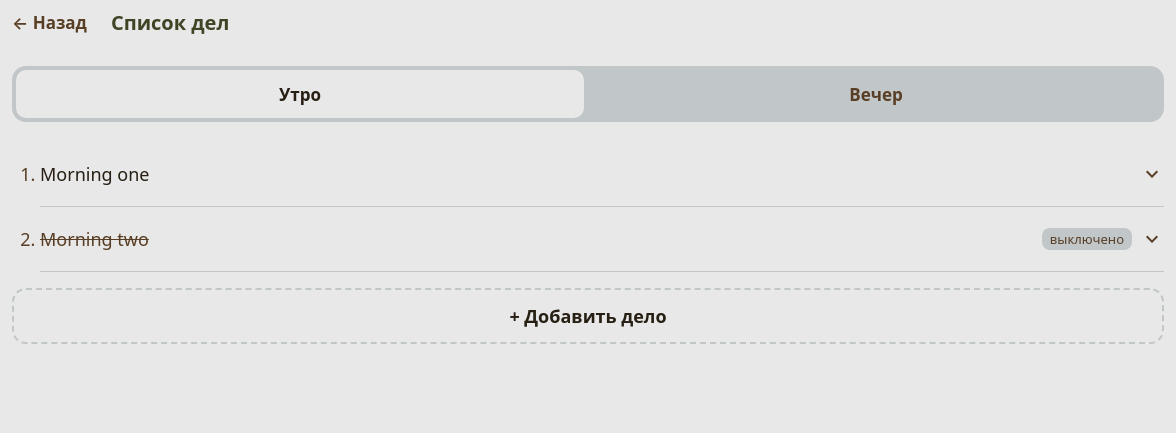
Test: Editor: renaming › cancels with the button and with Escape
The image size is (1176, 433).
Click the button "Morning one" at point(95, 174), box [40,150,1164,198]
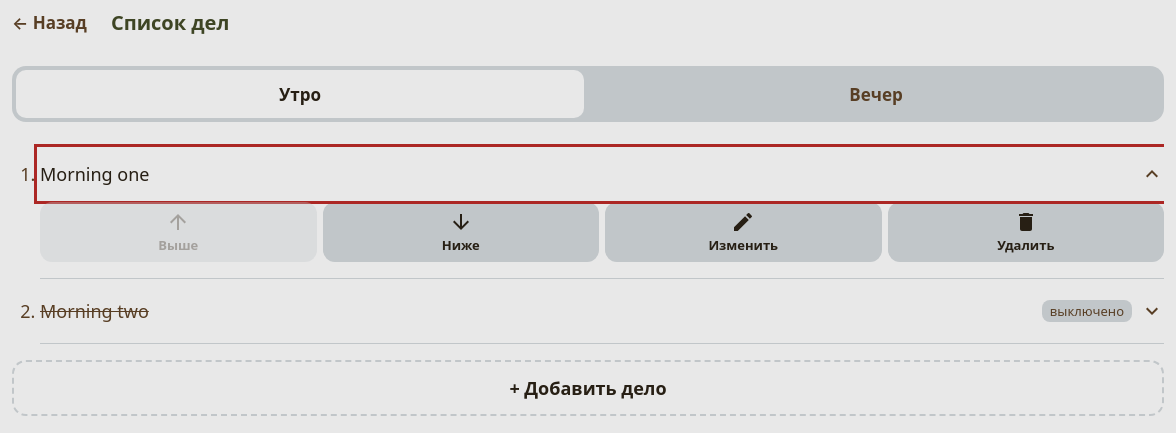
Click the button "Изменить" at point(743, 232), box [605,202,882,262]
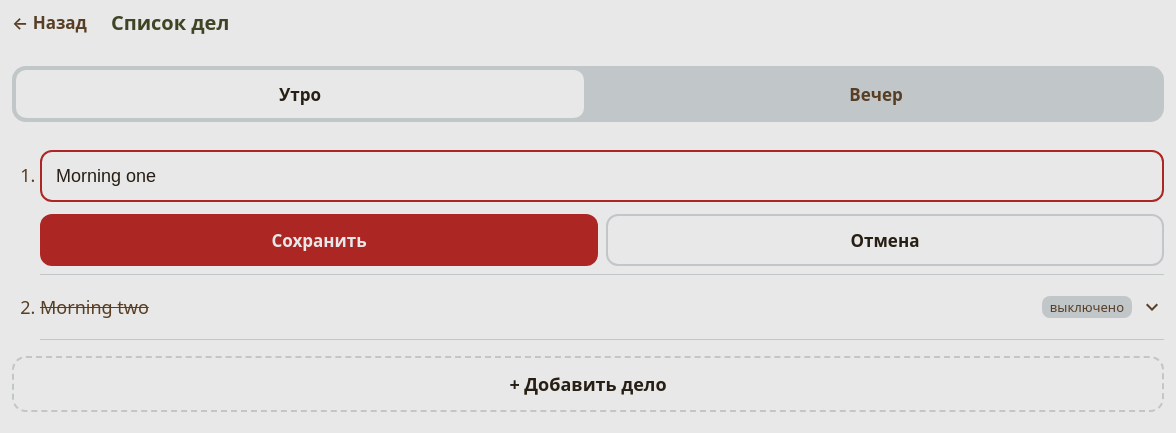
Type " edited" into the field named "Название дела" at point(602, 176), box [40,150,1164,202]
Click the button "Отмена" at point(885, 240), box [606,214,1164,266]
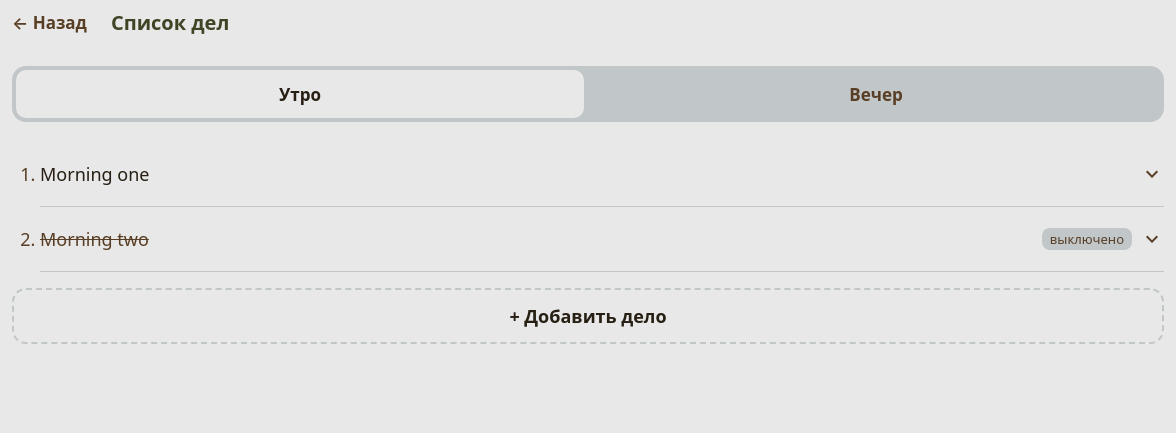
Result: the text "Morning one" is shown at [40,162,150,186]
Result: the field is gone
Click the button "Morning one" at point(95, 174), box [40,150,1164,198]
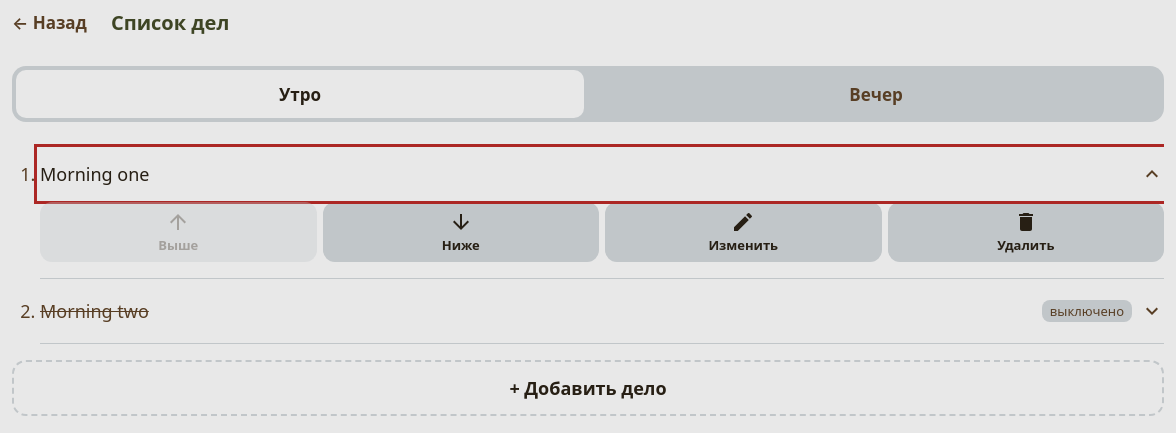
Click the button "Изменить" at point(743, 232), box [605,202,882,262]
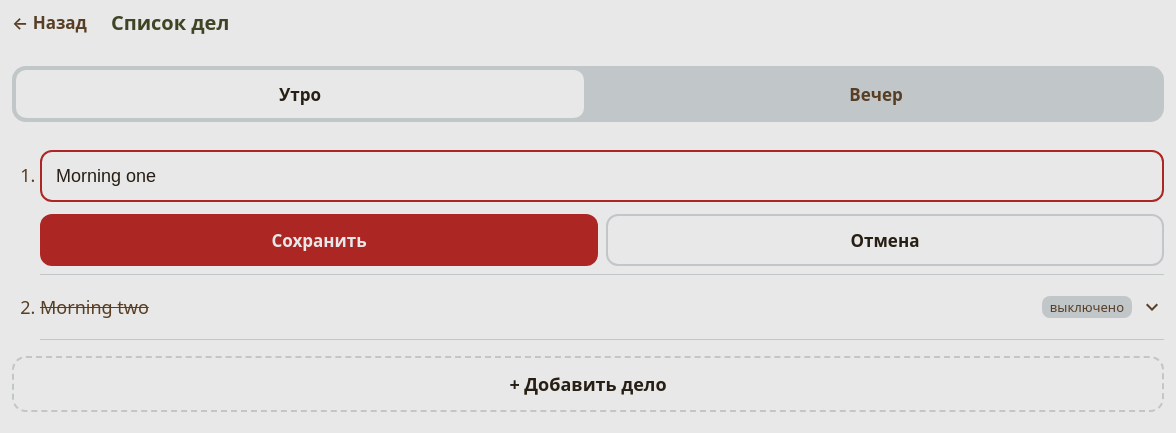
Type " edited" into the field named "Название дела" at point(602, 176), box [40,150,1164,202]
Then press Escape
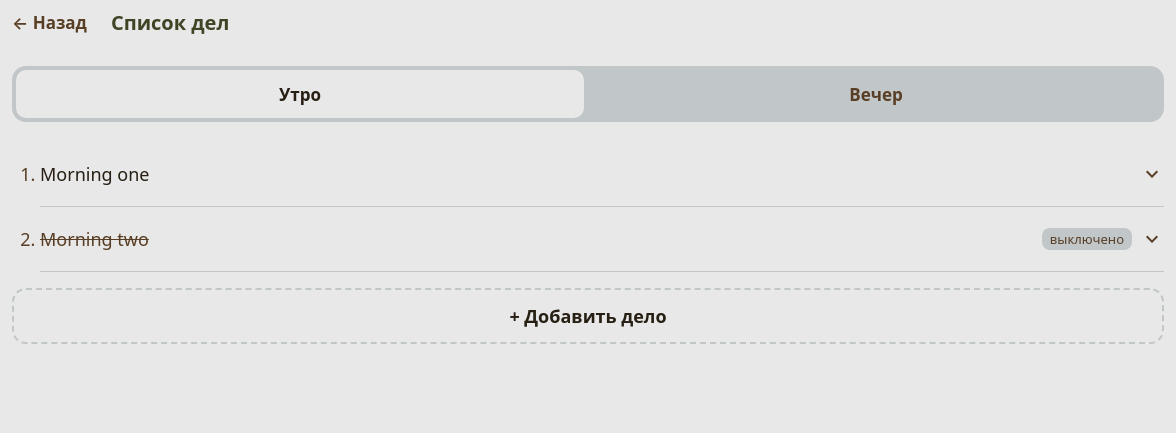
Result: the field is gone
